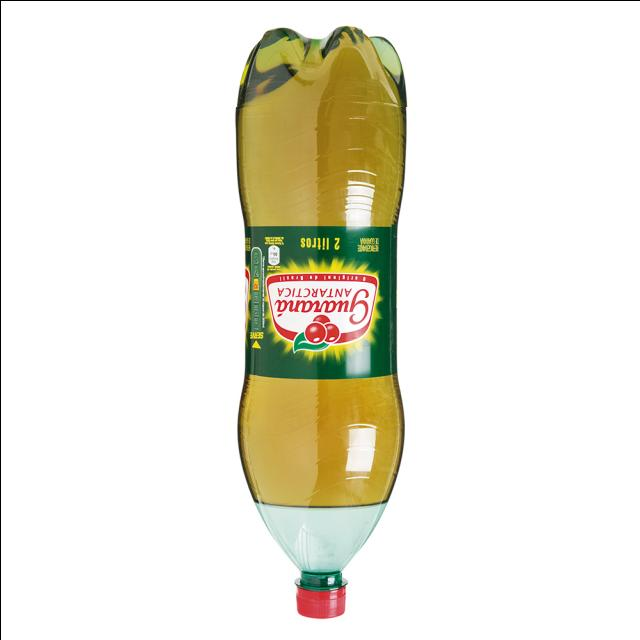bottom: (220, 16, 414, 106)
cap: (280, 570, 368, 628)
